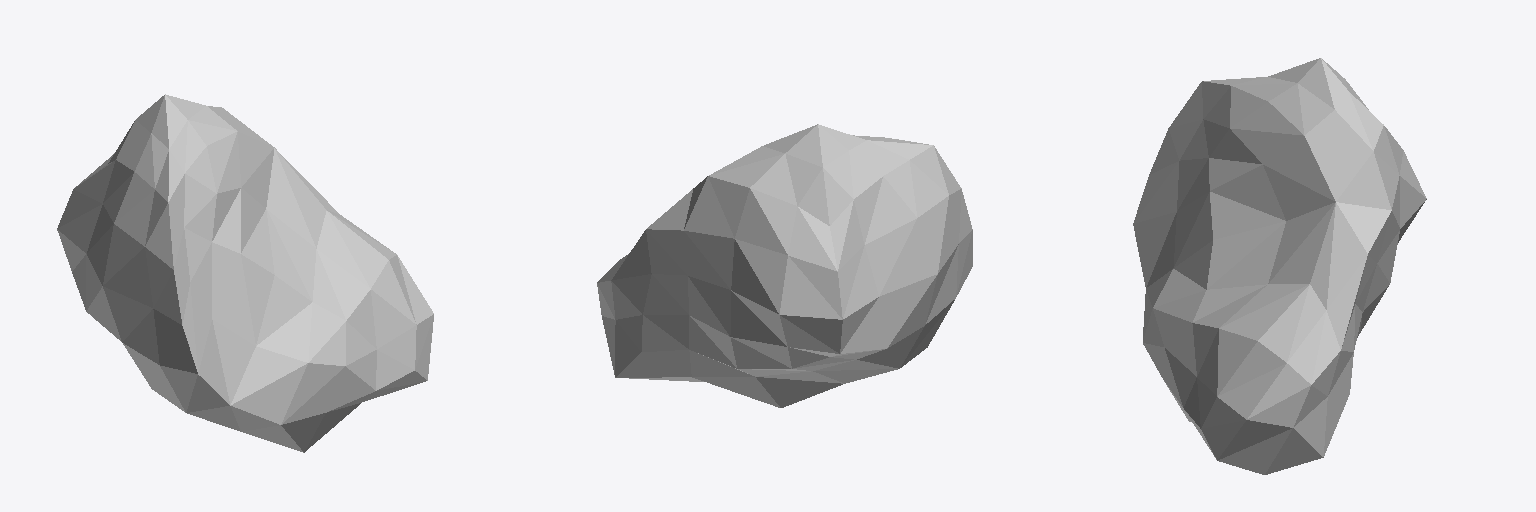
File: Asteroid3.obj
3 views of the same model, side by side, from view 1: azimuth 30°, elevation 25°; view 2: azimuth 150°, elevation 25°; view 3: azimuth 270°, elevation 25° (orthographic).
Parts seen in each view (by area): view 1: rock.003; view 2: rock.003; view 3: rock.003.
Part boxes in pixels (x1,y1,x2,y2): rock.003: (57, 94, 433, 452); rock.003: (597, 124, 972, 407); rock.003: (1133, 58, 1426, 474).
Bounding box in the file's own units: 0.8731 × 0.8462 × 0.6874.